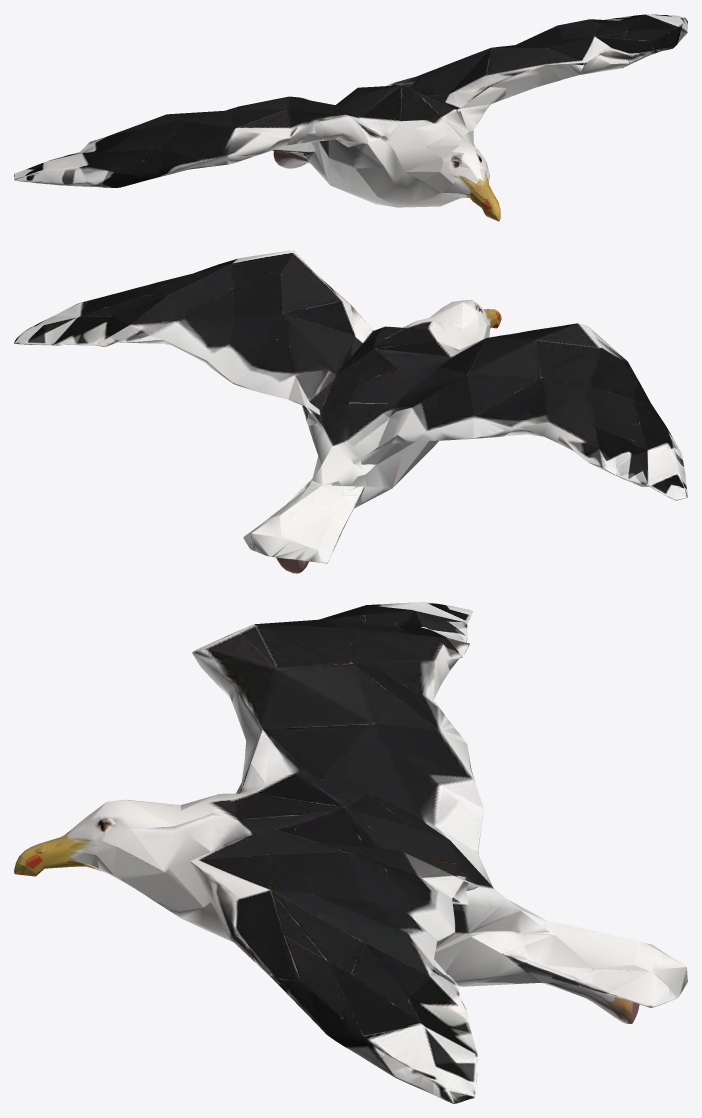
Rendered from gull-flying.glb.
3 views of the same model, one above another, from view 1: azimuth 30°, elevation 25°; view 2: azimuth 150°, elevation 25°; view 3: azimuth 270°, elevation 25° (orthographic). The views are drawn at different scales.
Visible parts, largest first — view 1: Wildlife_metres_gull-flying; view 2: Wildlife_metres_gull-flying; view 3: Wildlife_metres_gull-flying.
Part boxes in pixels (box(x1,y1,x2,y2)): Wildlife_metres_gull-flying: box(14, 14, 687, 221); Wildlife_metres_gull-flying: box(14, 250, 687, 573); Wildlife_metres_gull-flying: box(14, 602, 687, 1103).
Bounding box in the file's own units: 1.6 × 0.4092 × 0.9329.
1 material, 1 textured.
